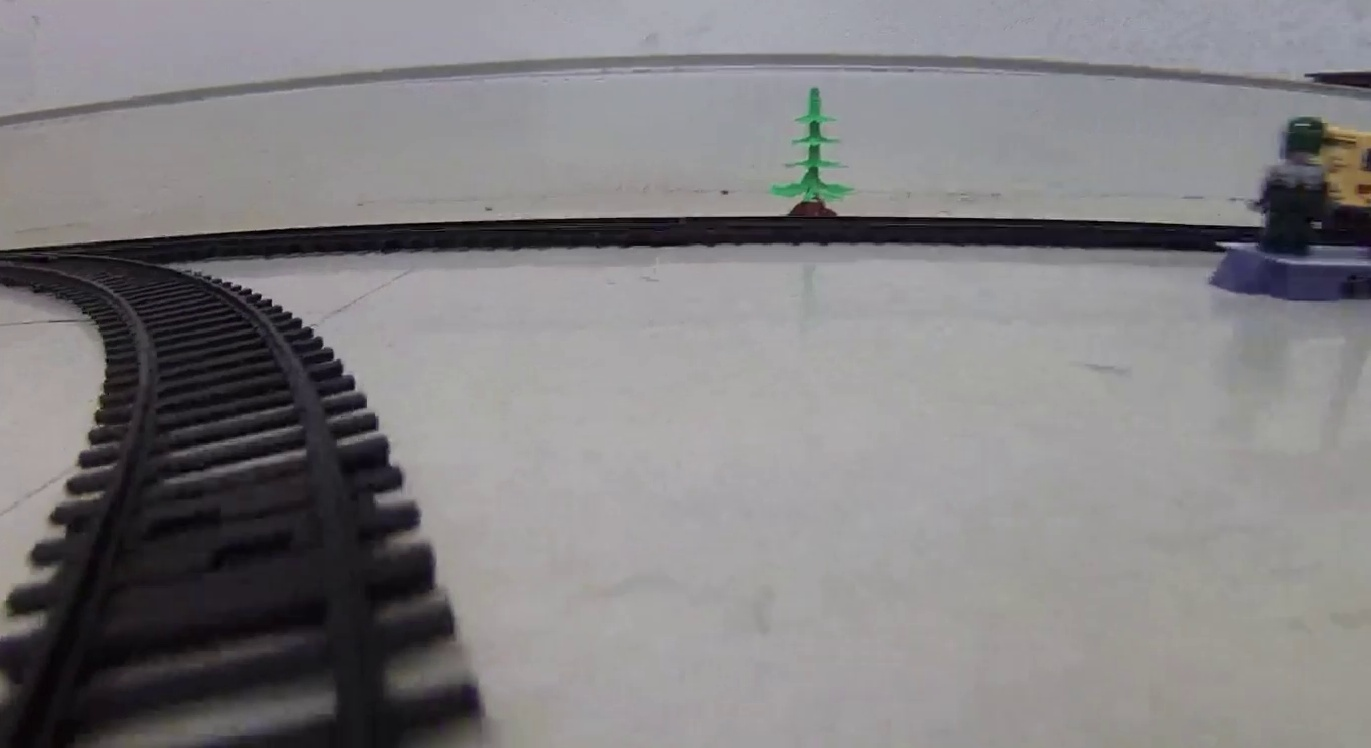people: (1248, 118, 1333, 249)
tree: (774, 84, 855, 219)
